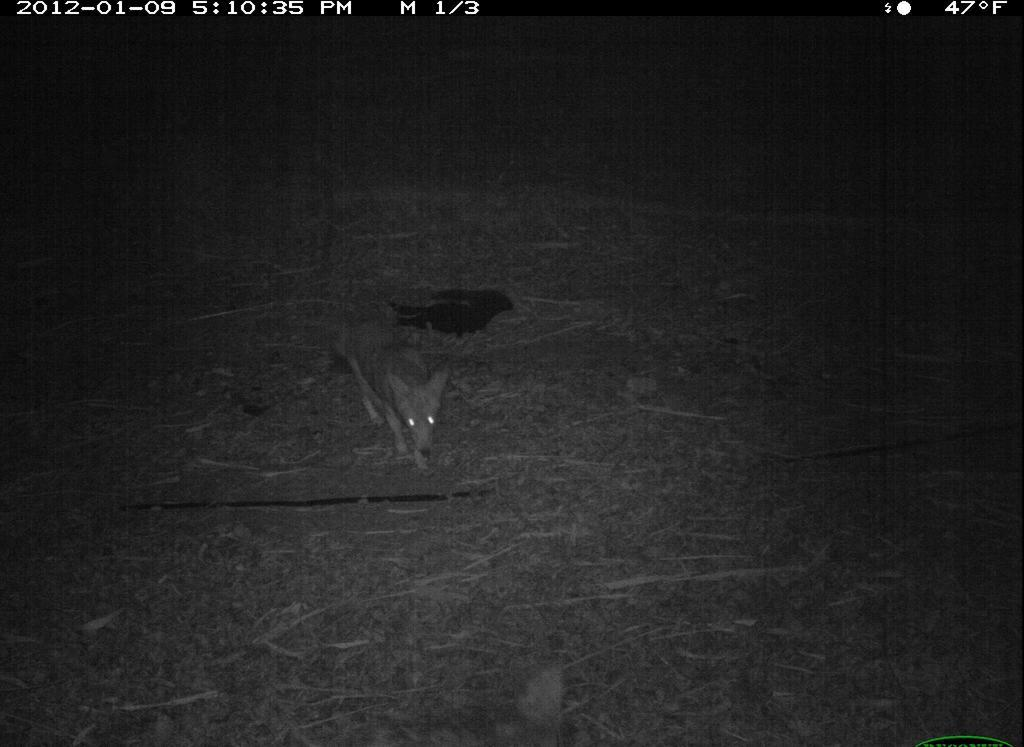coyote: (327, 314, 452, 478)
